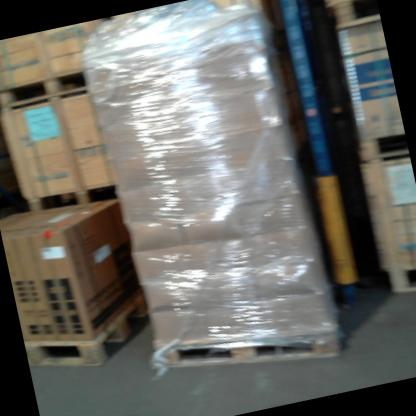pallet: (146, 301, 354, 398), (21, 293, 160, 381), (0, 60, 95, 115), (22, 177, 123, 227), (351, 124, 410, 170), (378, 251, 416, 304), (327, 0, 382, 36)
